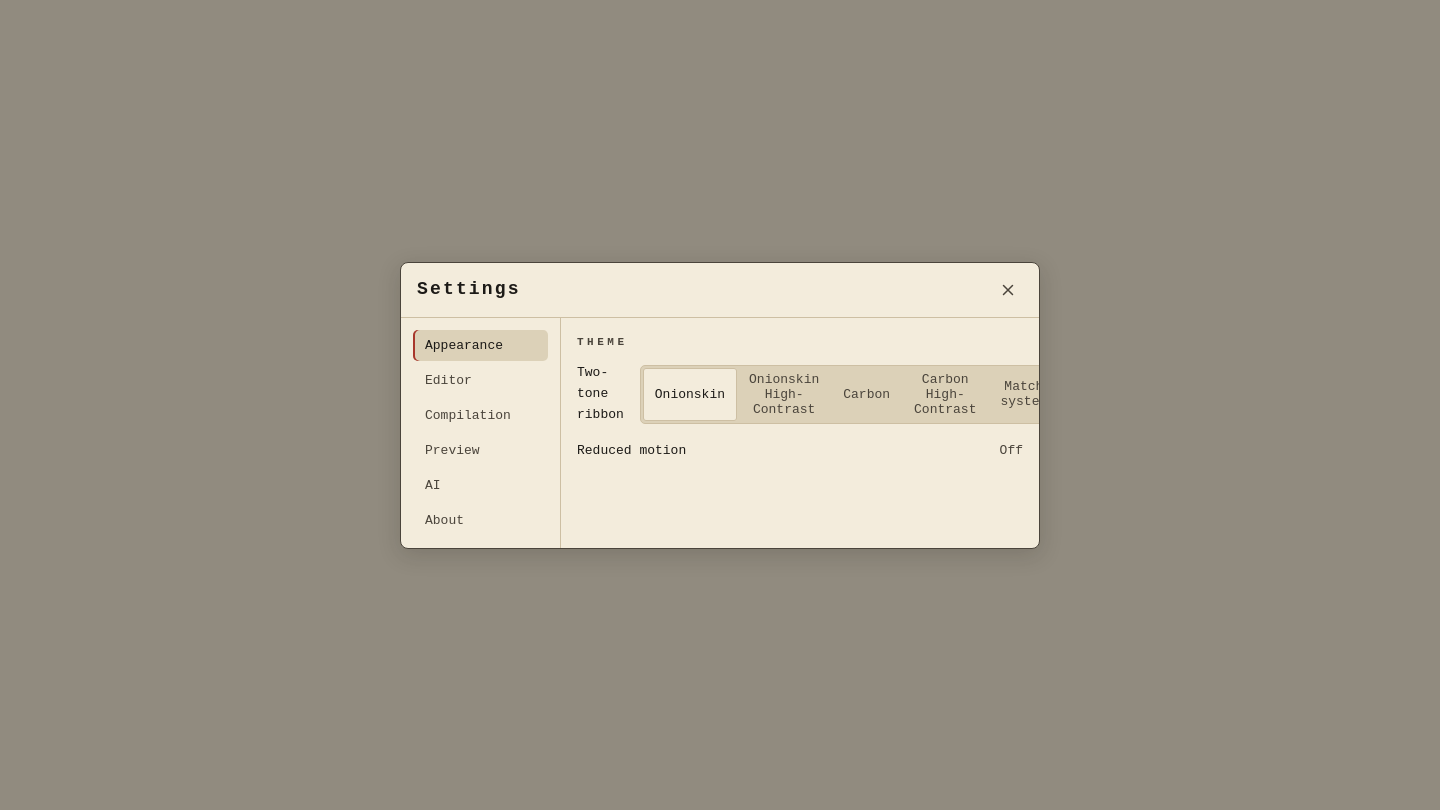
Test: Settings — Preview section › shows the sync scroll toggle defaulting to off
What coordinates should you click on to do the following:
click the button "Preview"
I would click on:
 (480, 450)
Its box is [413,434,548,466].
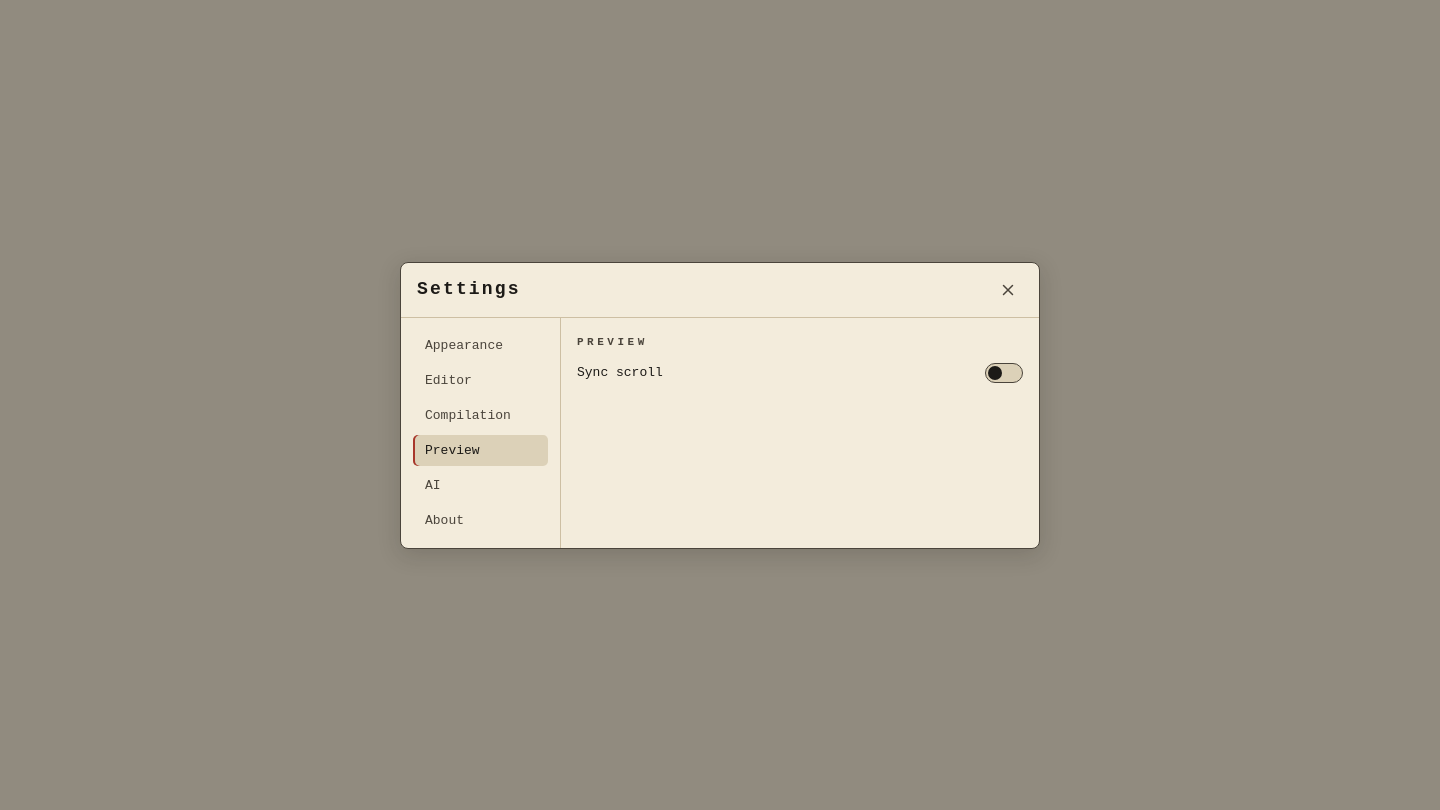
Now the text "Sync scroll" is shown, box [577,363,663,384]
